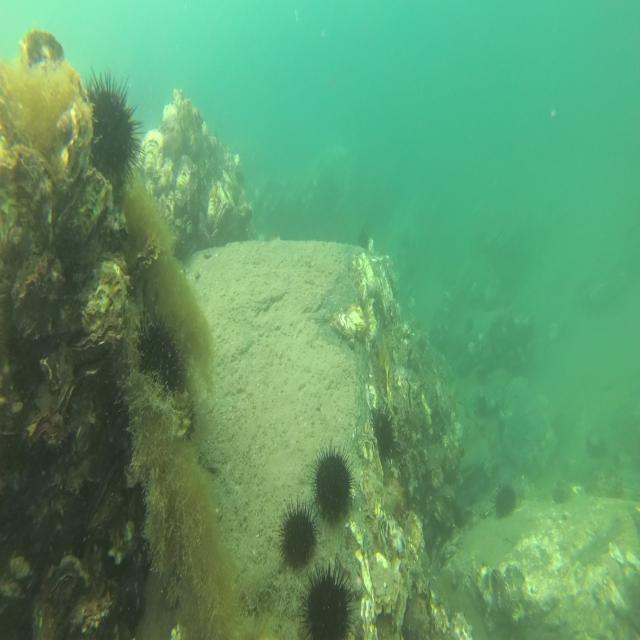echinus: (80, 64, 146, 199), (296, 557, 359, 640), (134, 312, 186, 403), (307, 439, 359, 529), (277, 493, 322, 577), (371, 402, 397, 466), (492, 481, 520, 521)
